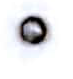cancer: (4, 5, 62, 63)
